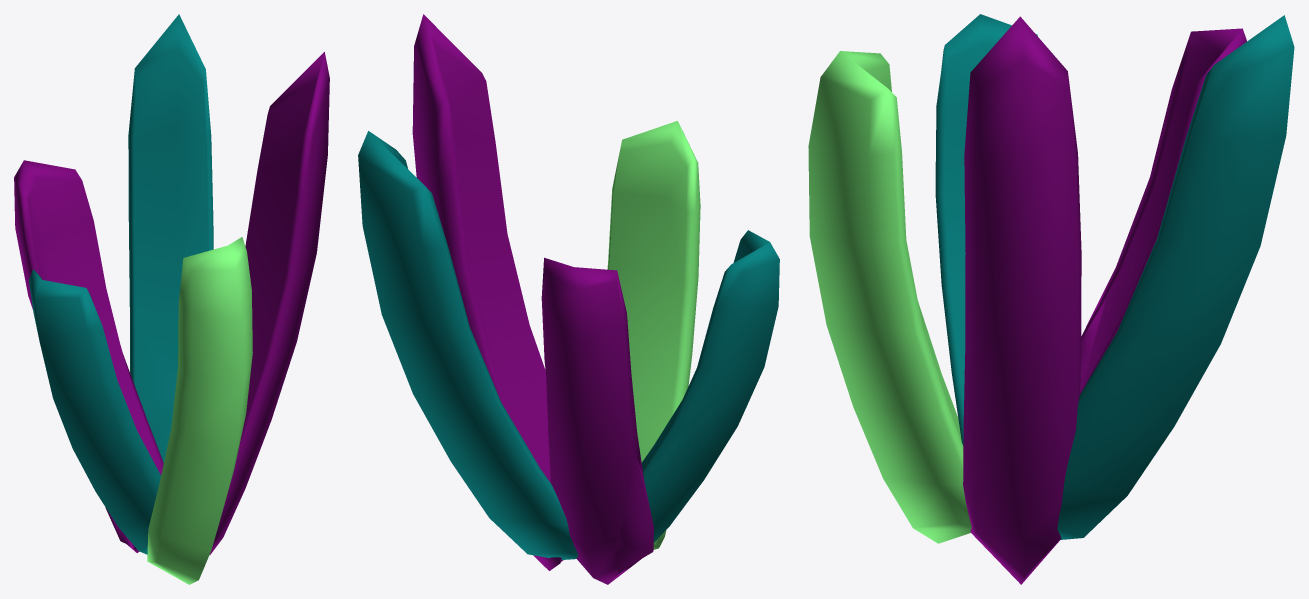
File: Cactus08.fbx
The picture shows the model from 3 angles, left to right: view 1: azimuth 30°, elevation 25°; view 2: azimuth 150°, elevation 25°; view 3: azimuth 270°, elevation 25°; orthographic projection. The views are drawn at different scales.
Visible parts, largest first — view 1: Low_Cactus08; view 2: Low_Cactus08; view 3: Low_Cactus08.
Part boxes in pixels (box(x1,y1,x2,y2)): Low_Cactus08: box(14, 14, 329, 584); Low_Cactus08: box(358, 14, 779, 584); Low_Cactus08: box(808, 14, 1294, 584).
Size of the model in its own units: 474 by 689 by 471.
